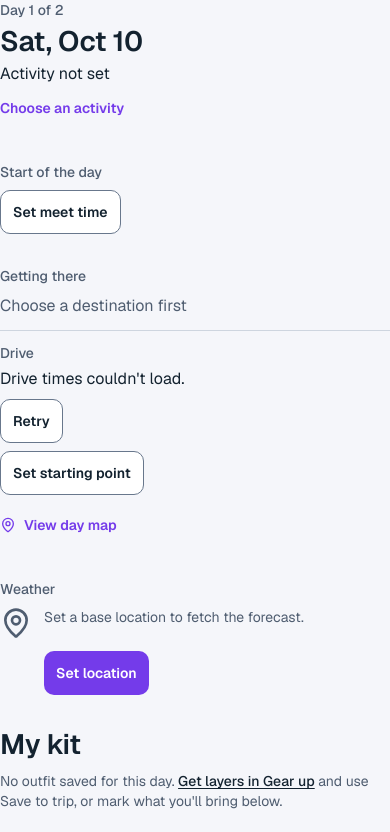
Trip day page › changing the day's location › offers the place for every day when the trip has no stops
Click the button "Set location" at (96, 673), box 44,651 -> 149,695
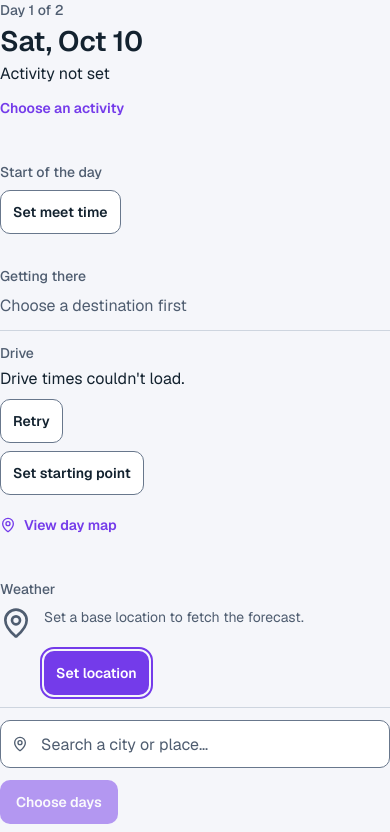
Type "Jay" into the dropdown at (195, 744), box 0,720 -> 389,768
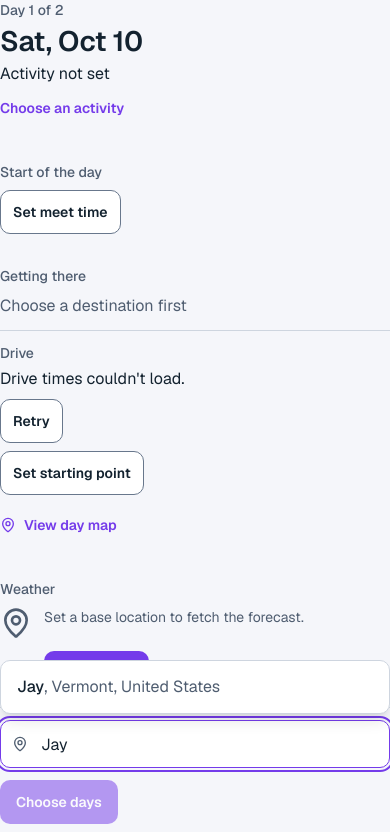
Click the option "Jay, Vermont, United States" at (118, 686), box 17,676 -> 220,697
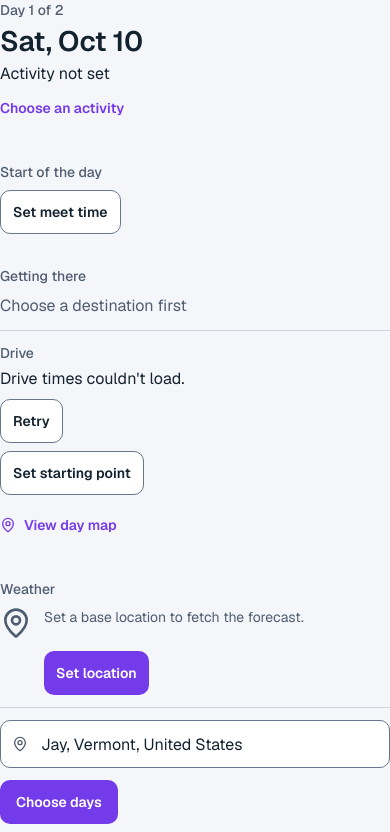
Click the button "Choose days" at (59, 802), box 0,780 -> 118,824
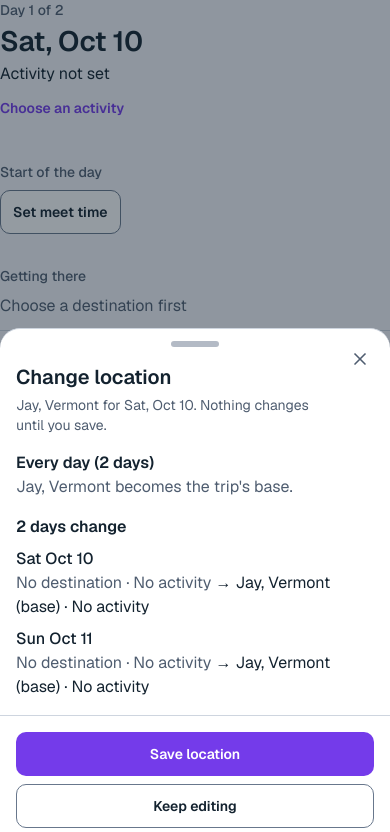
Expected: the text "Every day (2 days)" is shown, 16,452 -> 154,473
Expected: the text "Jay, Vermont becomes the trip's base." is shown, 16,476 -> 293,497
Expected: the number of list items is 2, 16,547 -> 374,619; 16,627 -> 374,699
